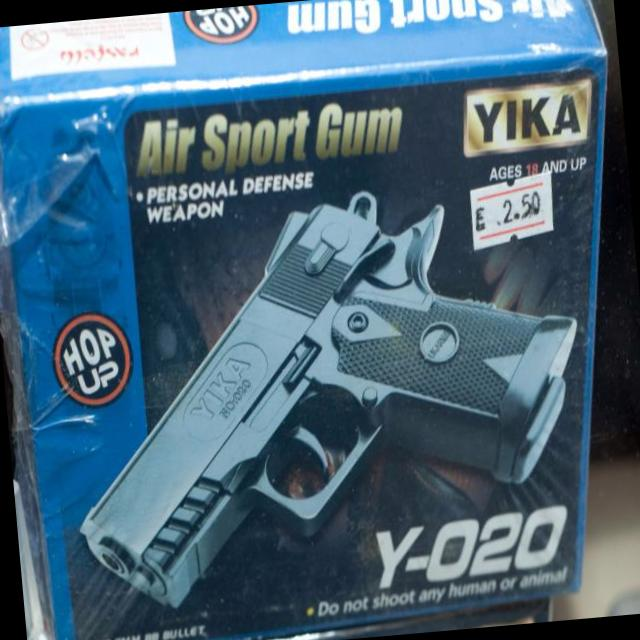Gun: (81, 192, 576, 605)
